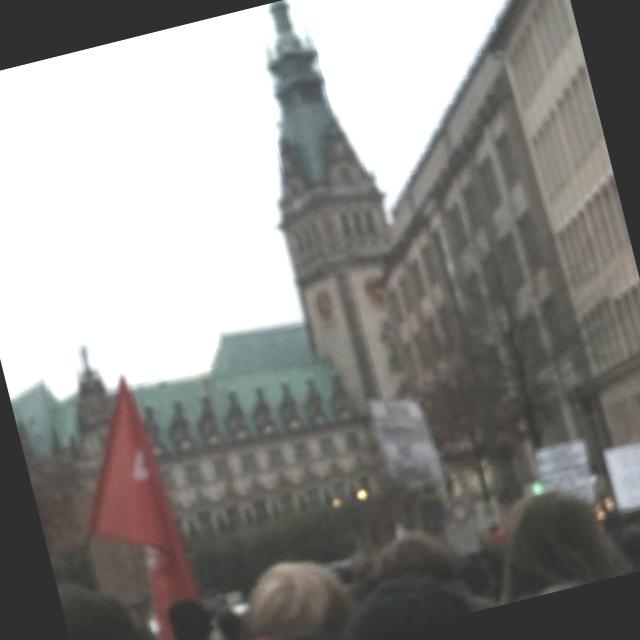Person: (55, 427, 640, 640), (446, 474, 626, 612)
